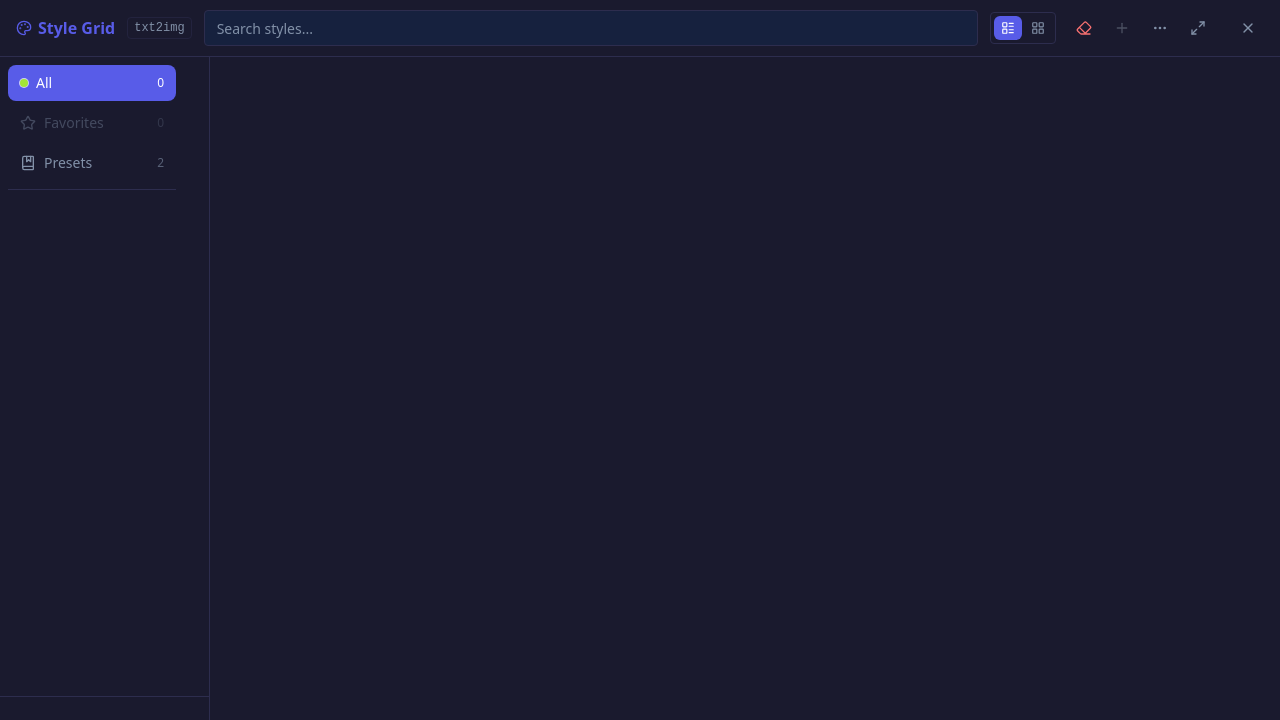
Test: one-row header › menu item 1 opens the "Backup & restore" dialog and closes the menu
The width and height of the screenshot is (1280, 720).
Click the button named "More".
click(1160, 28)  # box x1=1144 y1=12 x2=1176 y2=44
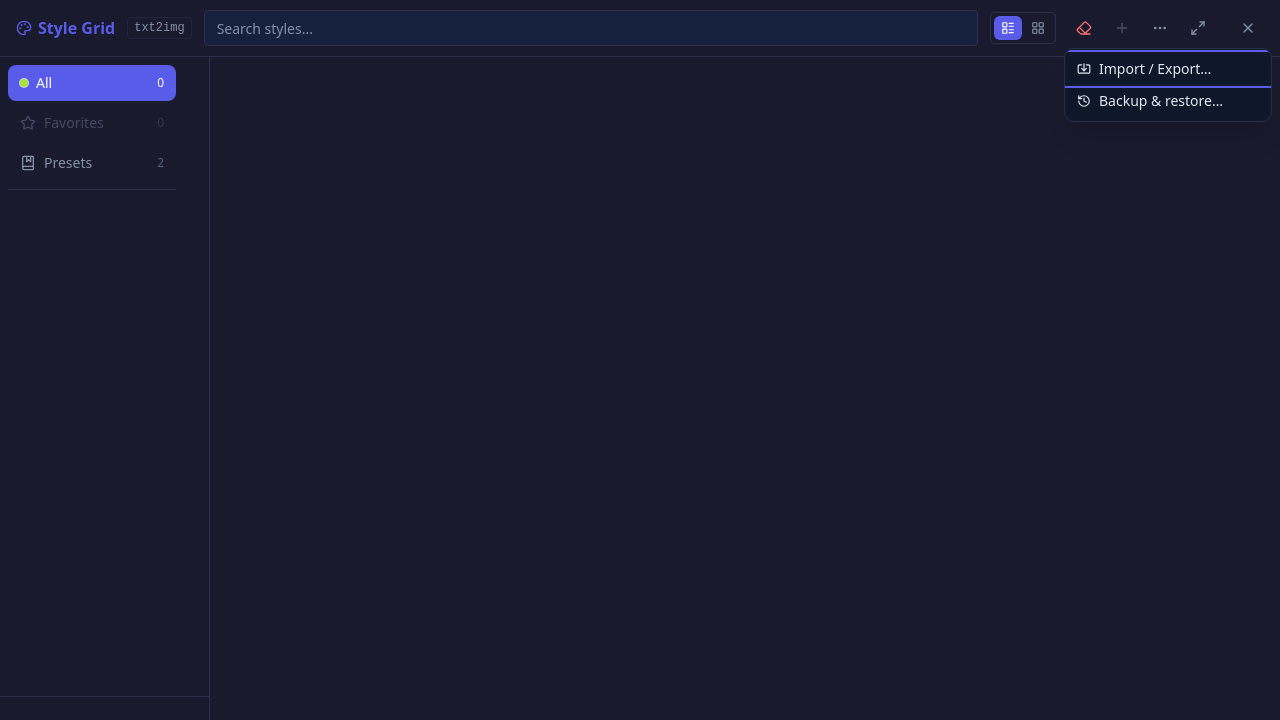
Click the menu item "Backup & restore…".
click(1168, 101)  # box x1=1065 y1=85 x2=1271 y2=117
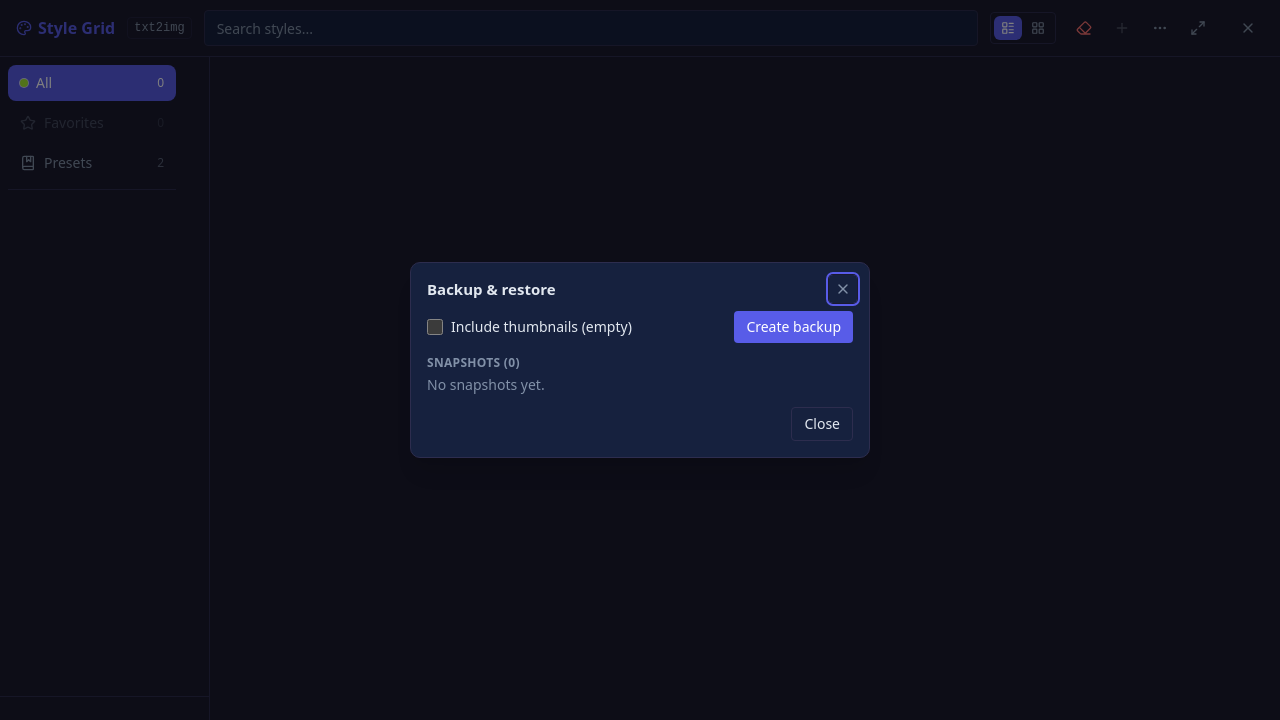
Expected: the text "Backup & restore" is shown, x1=427 y1=278 x2=556 y2=300
Expected: the menu is gone
